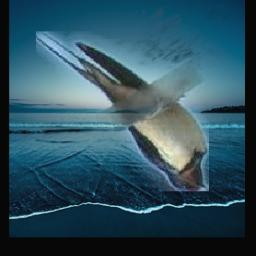Swallow: (36, 32, 209, 192)
